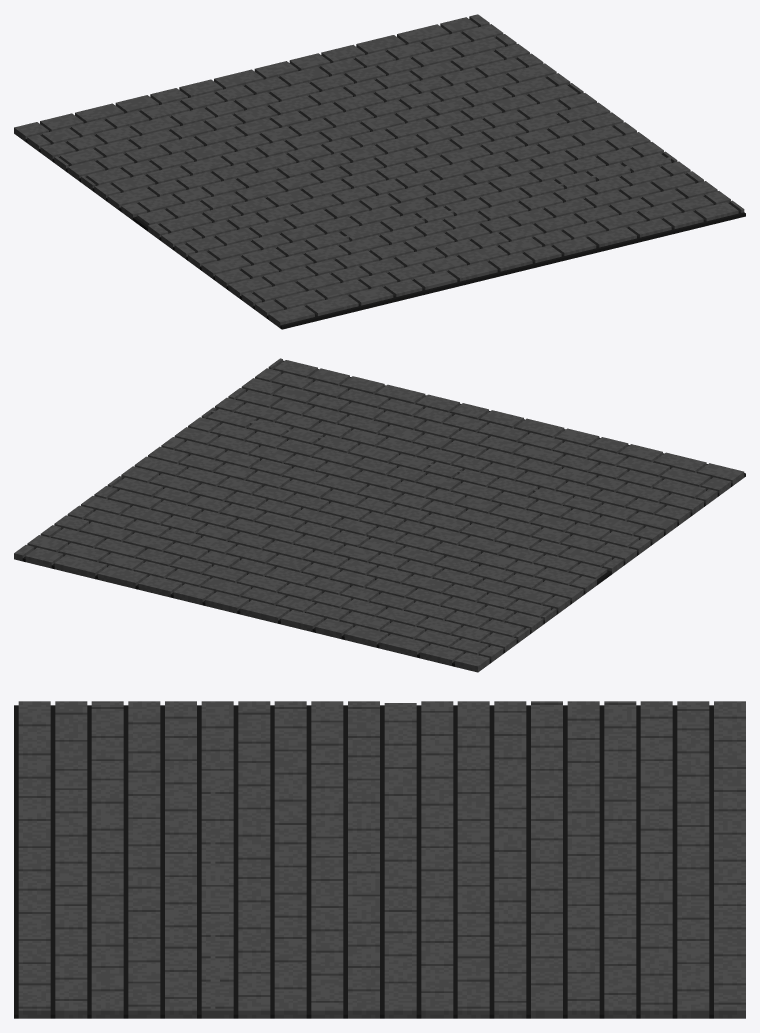
Rendered from wallbricks.obj.
3 views of the same model, one above another, from view 1: azimuth 30°, elevation 25°; view 2: azimuth 150°, elevation 25°; view 3: azimuth 270°, elevation 25° (orthographic). The views are drawn at different scales.
Bounding box in the file's own units: 16 × 0.2 × 16.
Materials: 1 (1 with a texture image).
